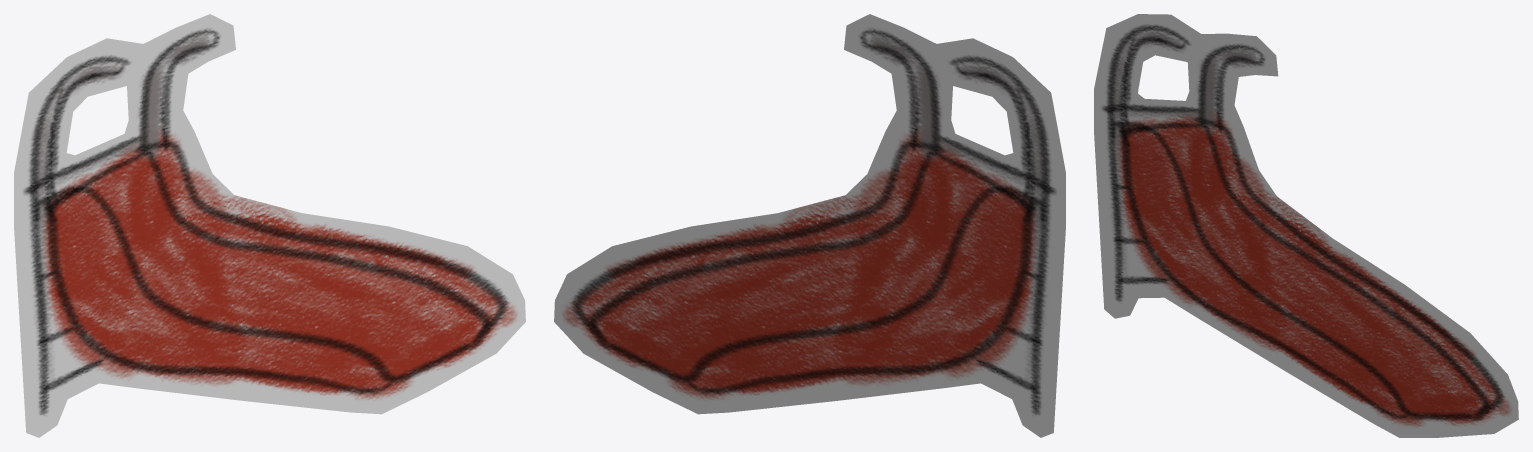
File: Slide.fbx
3 views of the same model, side by side, from view 1: azimuth 30°, elevation 25°; view 2: azimuth 150°, elevation 25°; view 3: azimuth 330°, elevation 25° (orthographic). The views are drawn at different scales.
Parts seen in each view (by area): view 1: Rushkana; view 2: Rushkana; view 3: Rushkana.
Part boxes in pixels (x1,y1,x2,y2): Rushkana: (14,14,525,437); Rushkana: (554,14,1065,437); Rushkana: (1094,14,1518,437).
Bounding box in the file's own units: 115 × 94.78 × 4.35e-06.
1 material, 1 textured.
